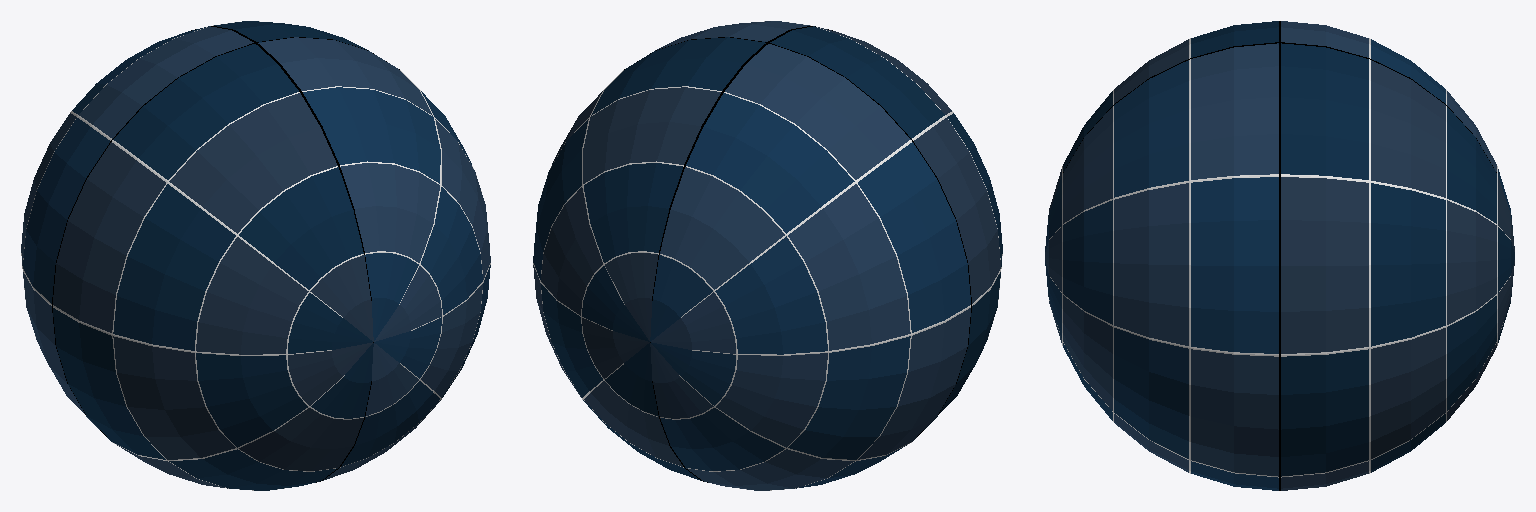
The picture shows the model from 3 angles: view 1: azimuth 30°, elevation 25°; view 2: azimuth 150°, elevation 25°; view 3: azimuth 270°, elevation 25°; orthographic projection.
Visible parts, largest first — view 1: Sphere; view 2: Sphere; view 3: Sphere.
Boxes of the visible parts, x1,y1,x2,y2 form: Sphere: [21, 21, 490, 490]; Sphere: [533, 21, 1002, 490]; Sphere: [1045, 21, 1514, 490].
Size of the model in its own units: 200 by 200 by 200.
1 materials, 1 textured.